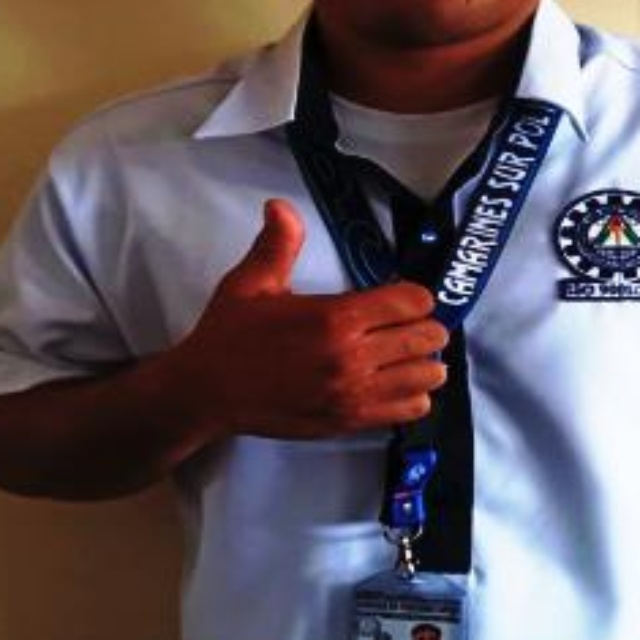thumbs_up: (187, 189, 453, 451)
